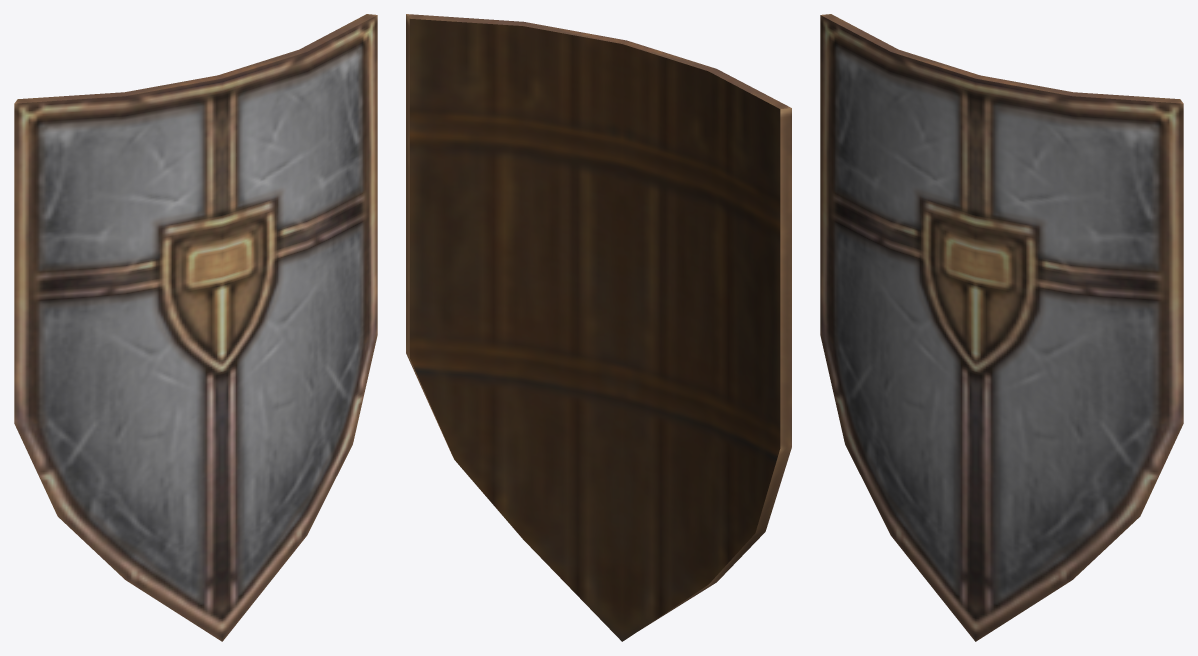
Rendered from Shield06_a.FBX.
3 views of the same model, side by side, from view 1: azimuth 30°, elevation 25°; view 2: azimuth 150°, elevation 25°; view 3: azimuth 330°, elevation 25° (orthographic). The views are drawn at different scales.
Parts seen in each view (by area): view 1: Shield06_a; view 2: Shield06_a; view 3: Shield06_a.
Boxes of the visible parts, x1,y1,x2,y2 form: Shield06_a: (14,14,377,641); Shield06_a: (406,14,791,641); Shield06_a: (820,14,1183,641).
Bounding box in the file's own units: 55.34 × 81.96 × 7.96.
